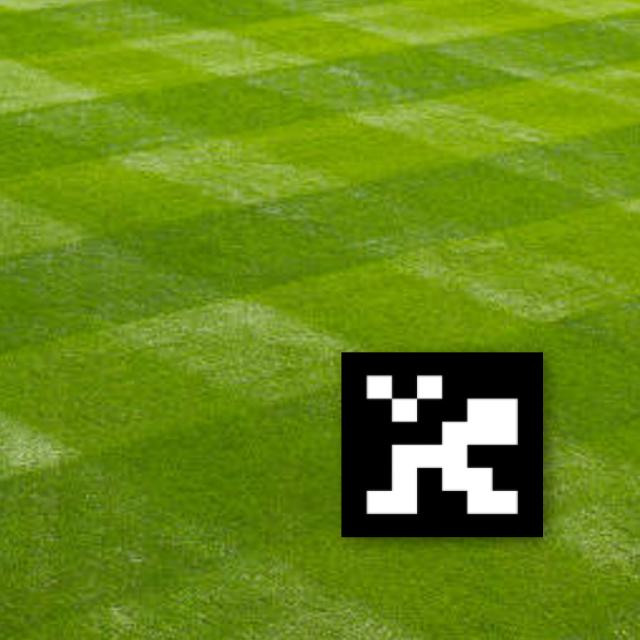marker: (330, 335, 553, 550)
